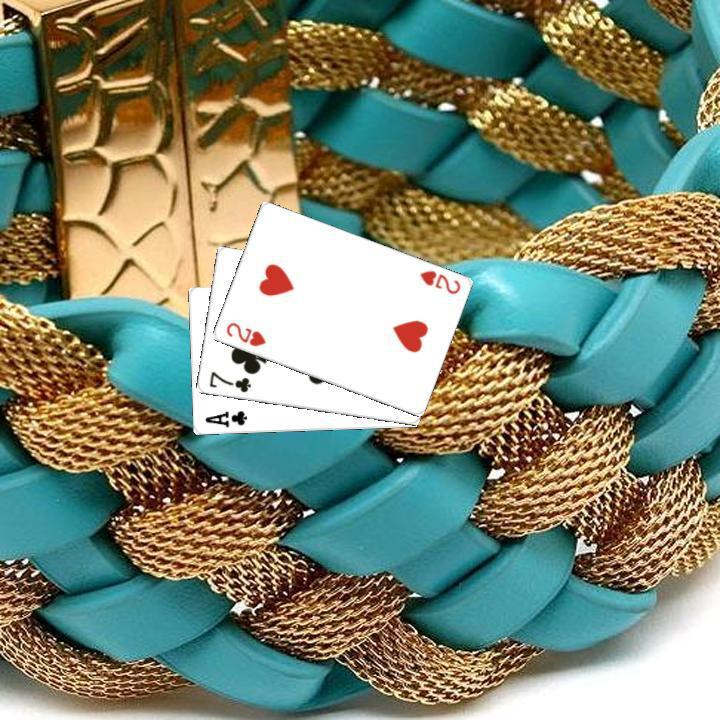2: (221, 318, 268, 349), (415, 266, 462, 297)
7: (204, 367, 253, 395)
A: (201, 407, 248, 430)
